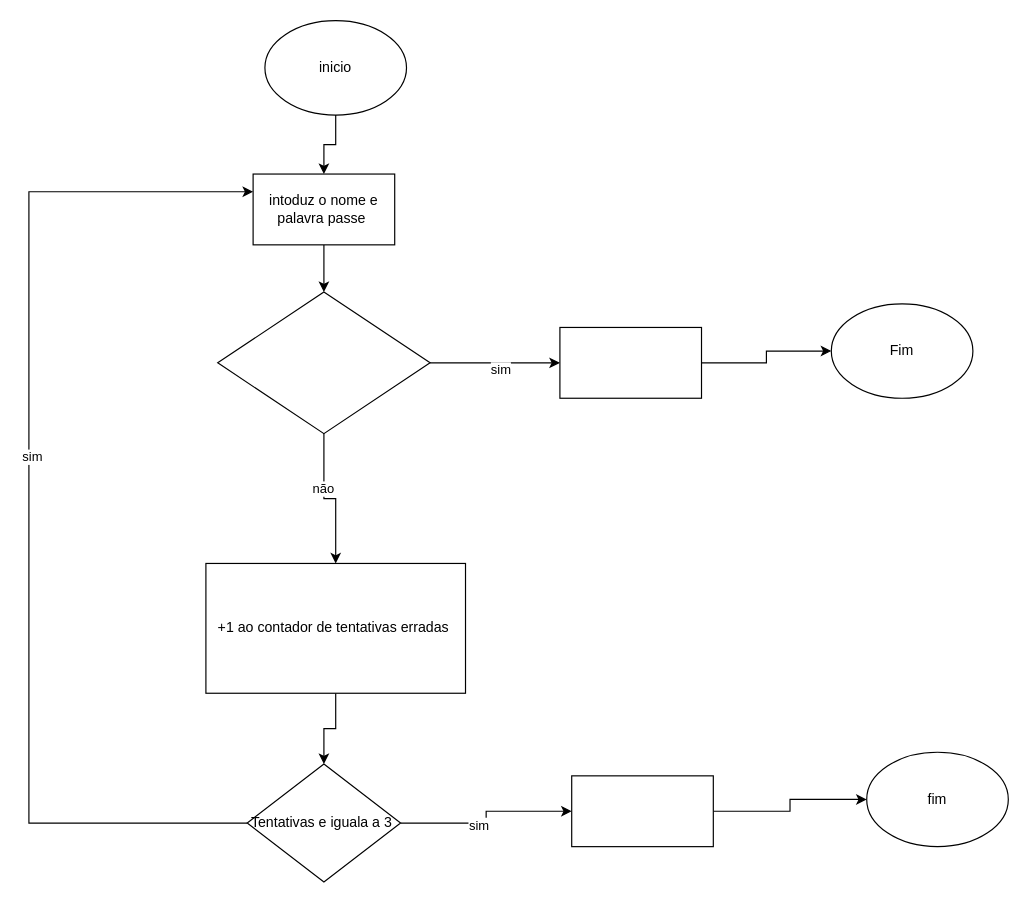
Image size: 1029x903. Some labels were removed from this diagram. Here are the shapes that lost their labels. From the top down, the centre of each, then its label:
At point (323, 362): "Os dados estão corretos".
At point (630, 362): "Acesso conscendido".
At point (642, 811): "Conta bloqueada".
